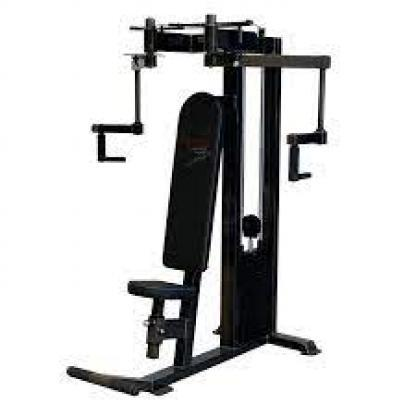chest fly machine: (53, 14, 334, 399)
